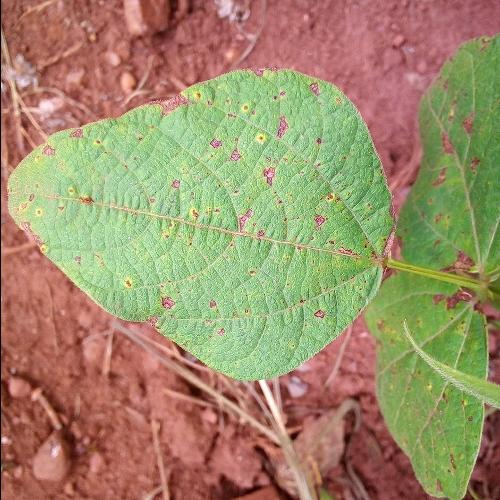hawar: (204, 112, 350, 255), (121, 137, 193, 234), (124, 284, 184, 328), (42, 126, 94, 165), (296, 288, 340, 324), (150, 96, 198, 124), (242, 66, 294, 80), (306, 76, 330, 102), (63, 242, 89, 264)
mozaik: (34, 95, 357, 330)
